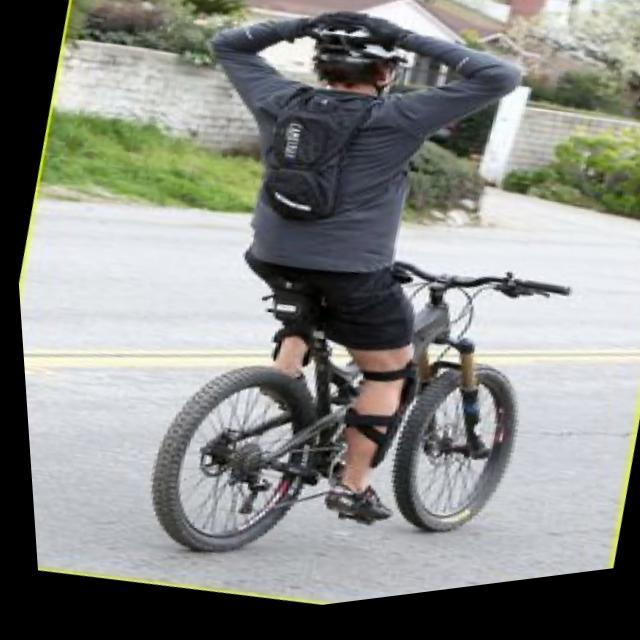Helmet: (308, 17, 409, 91)
